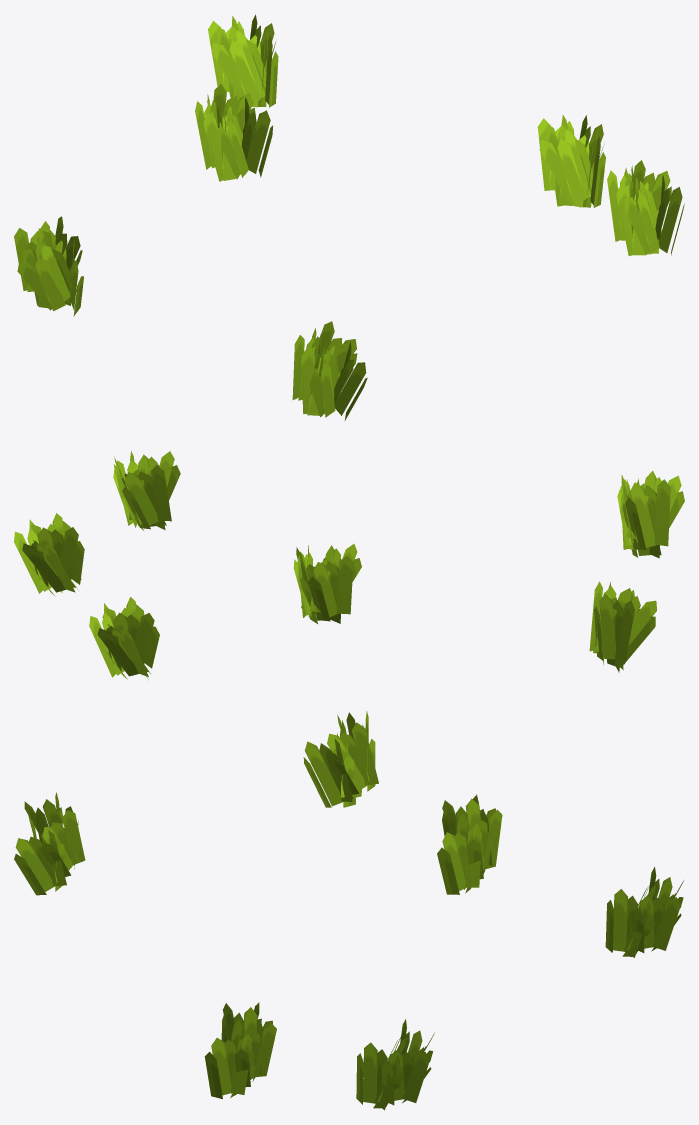
File: grassTile1.obj
3 renders of one model, top to bottom at view 1: azimuth 30°, elevation 25°; view 2: azimuth 150°, elevation 25°; view 3: azimuth 270°, elevation 25°, orthographic.
Parts seen in each view (by area): view 1: GrassTile1_Plane.013; view 2: GrassTile1_Plane.013; view 3: GrassTile1_Plane.013.
Part boxes in pixels (x1,y1,x2,y2): GrassTile1_Plane.013: (14, 14, 684, 420); GrassTile1_Plane.013: (14, 451, 684, 679); GrassTile1_Plane.013: (14, 711, 683, 1110).
Size of the model in its own units: 6.08 by 1.51 by 5.86.
